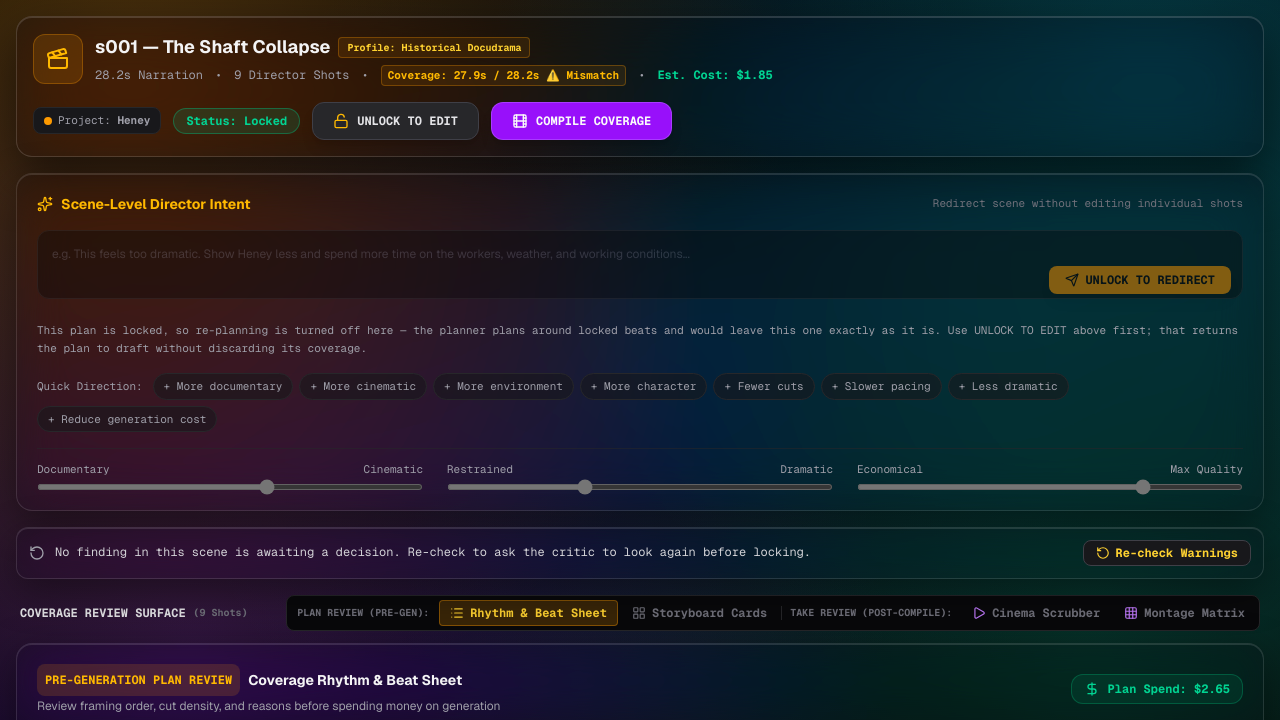
the montage matrix shows this film, not the fixture › the row is the loaded plan, with the server's own numbers
Click the button "Montage Matrix". click: (1185,613)
box: [1114,601,1255,625]
(page scrolled)
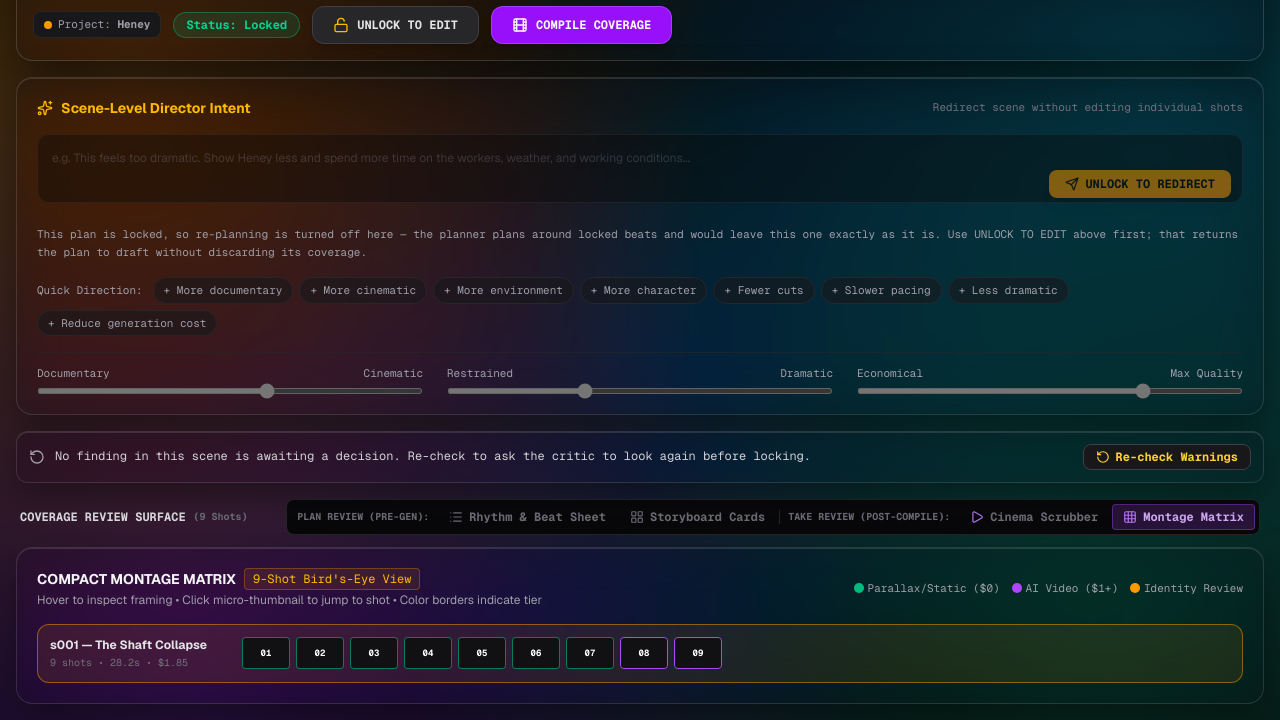
Check: the element with test id "montage-matrix" shows "s001 — The Shaft Collapse", box [50,637,207,653]
Check: the element with test id "montage-matrix" shows "9 shots", box [16,547,1264,704]
Check: the element with test id "montage-matrix" shows "$1.85", box [16,547,1264,704]
